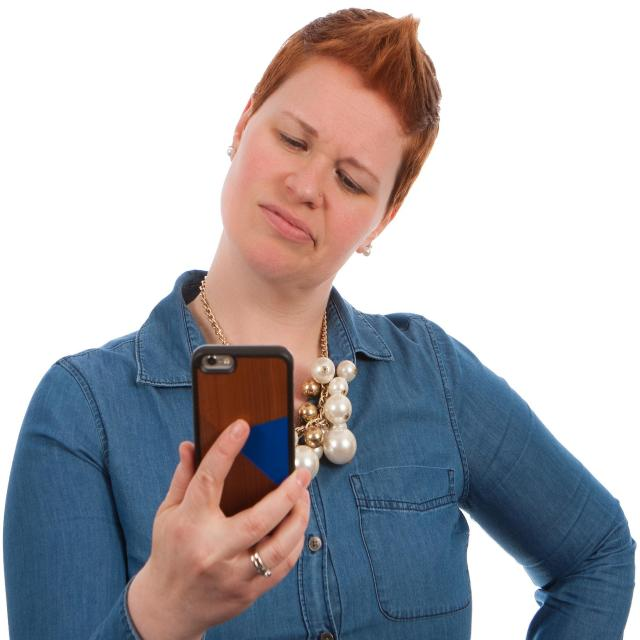Mobile: (175, 325, 308, 595)
